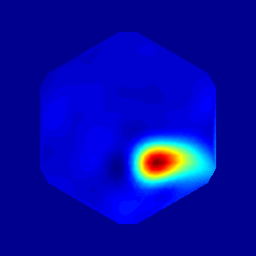ship: (110, 159, 140, 182)
wave: (134, 149, 194, 180)
